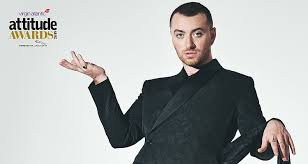noMask: (161, 1, 220, 71)
